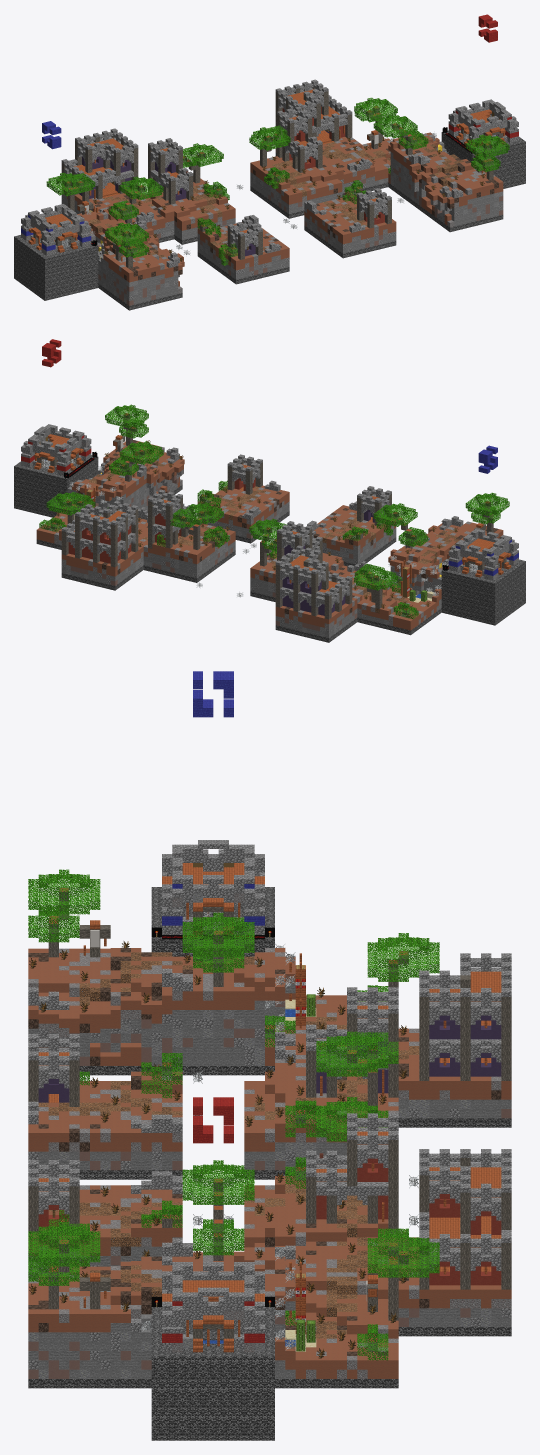
The model's file is minecraft.obj.
The picture shows the model from 3 angles, top to bottom: view 1: azimuth 30°, elevation 25°; view 2: azimuth 150°, elevation 25°; view 3: azimuth 270°, elevation 25°; orthographic projection. The views are drawn at different scales.
Bounding box in the file's own units: 108 × 34 × 47.
